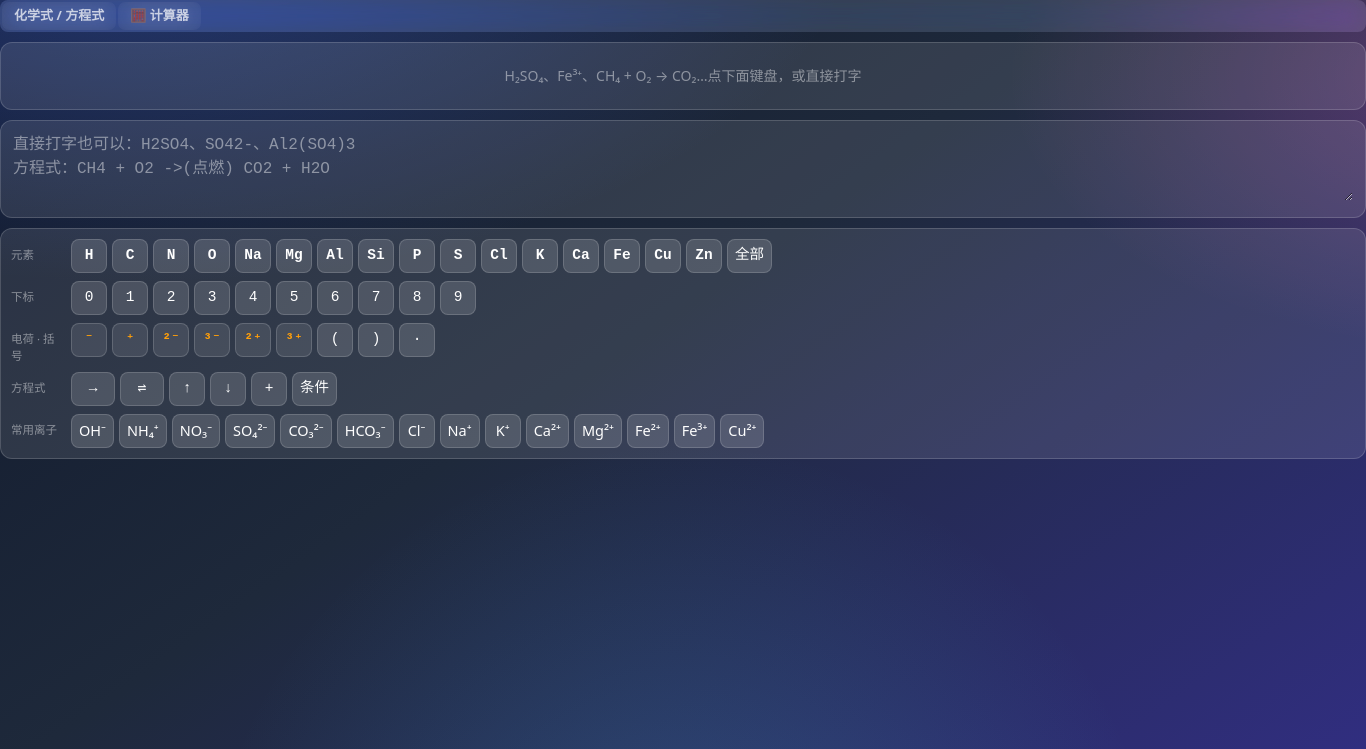
Test case: 化学输入键盘 › 全部元素展开后可插入稀土等冷门元素
This screenshot has width=1366, height=749.
Click the button "全部". click: (750, 256)
box: [727,238,772,272]
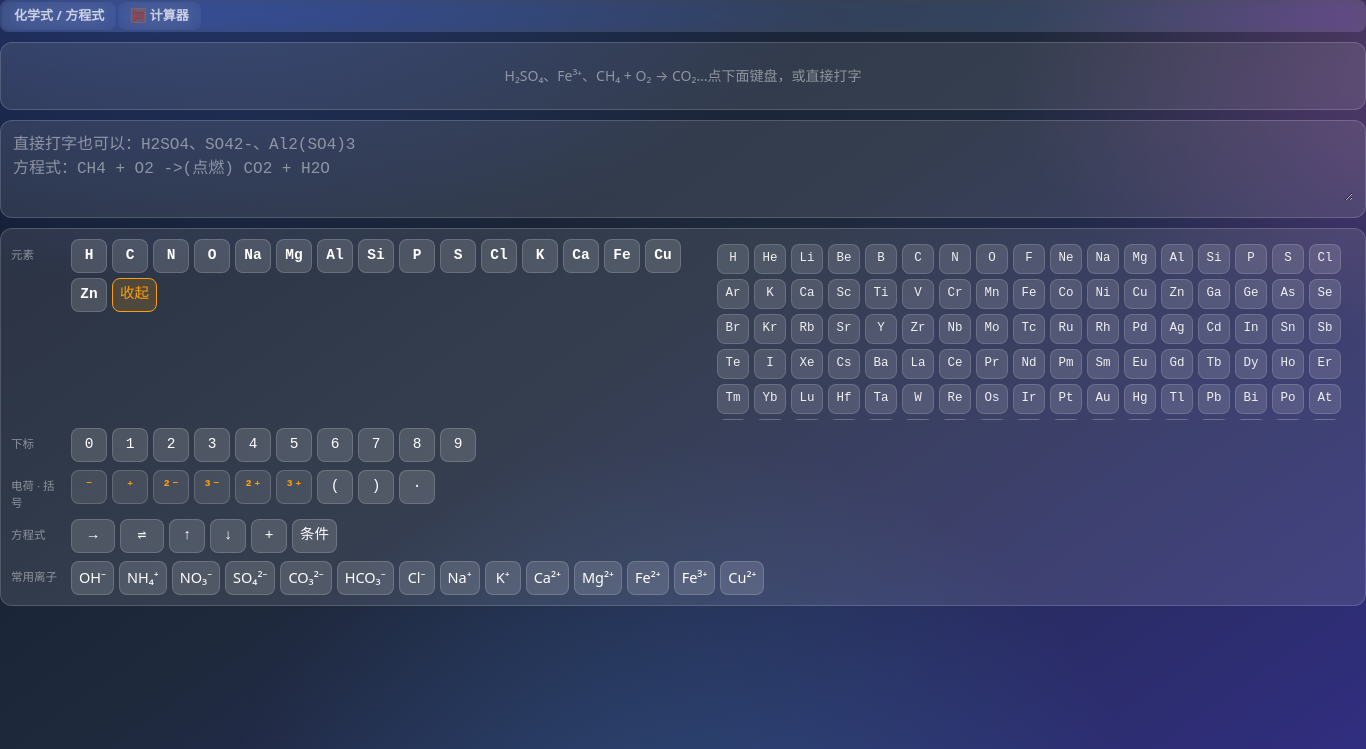
Click the button titled "铈". click: (955, 364)
box: [939,348,971,378]
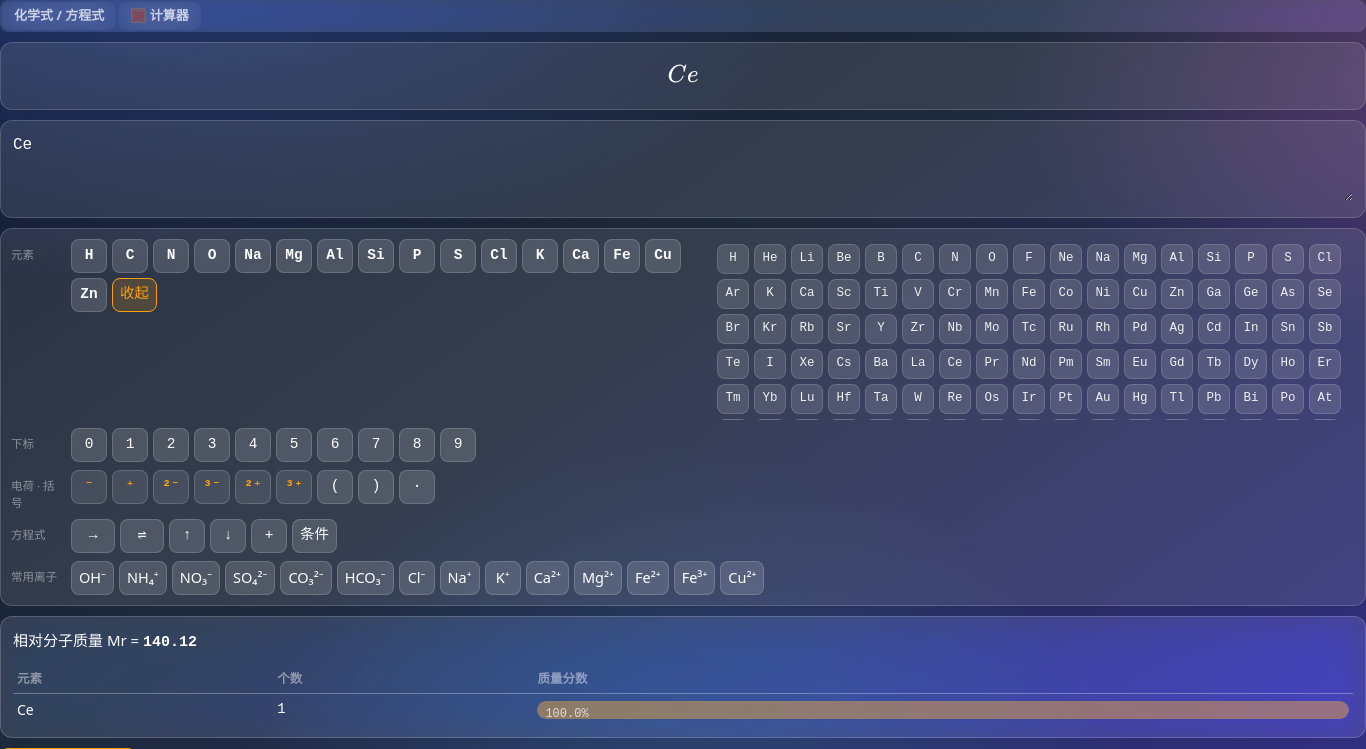
Check: the text box named "化学式输入" holds "Ce", box [13,128,1353,200]
